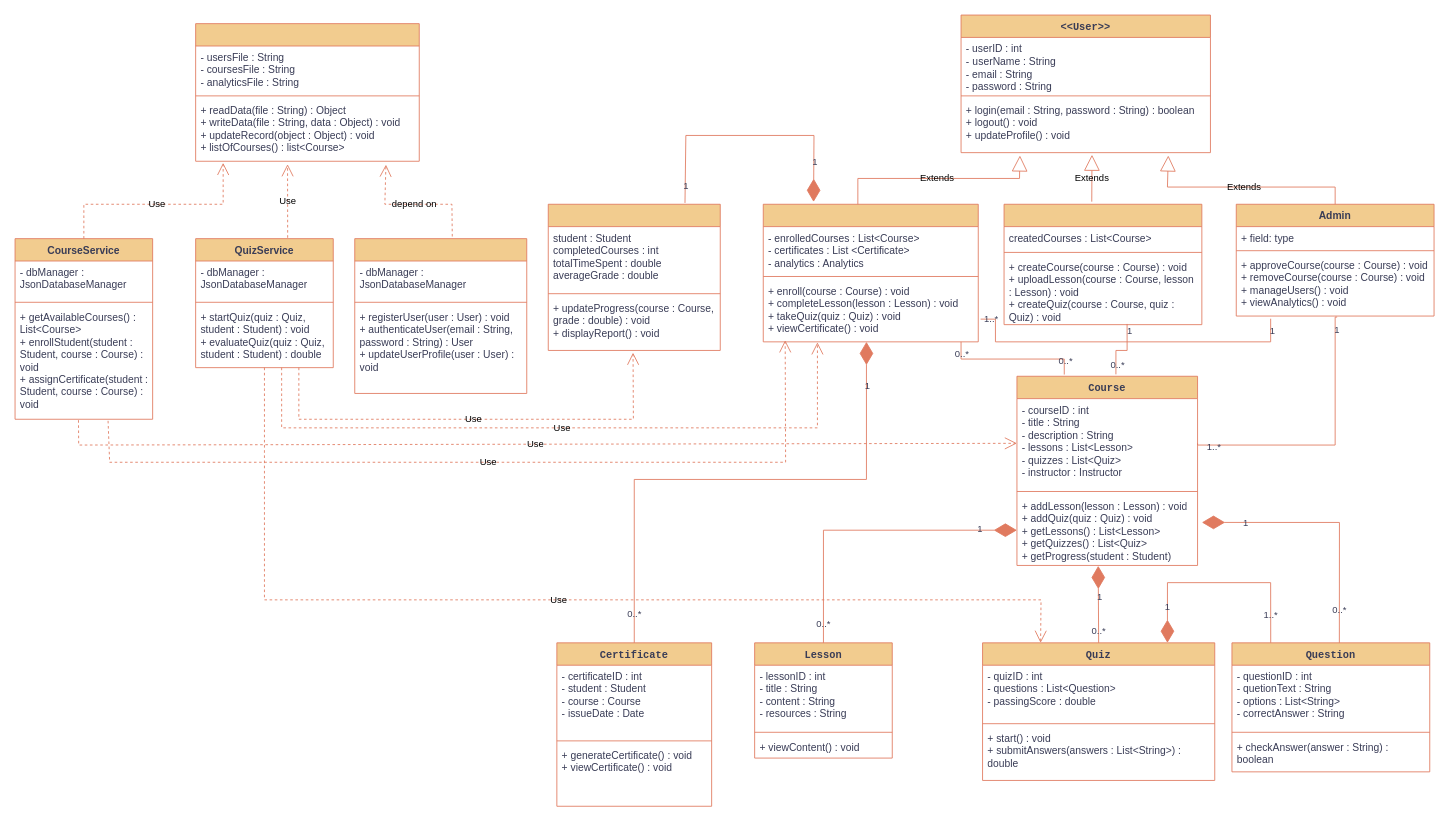
This 1449x824 diagram has some shape labels left out. The box of each missing label's shape, as (x1, y1, x2, y2) in pixels:
Analytics: (547, 203, 720, 350)
Instructure: (1003, 203, 1202, 325)
JsonDatabaseManager: (195, 23, 419, 161)
Student: (762, 203, 978, 342)
UserService: (354, 238, 527, 393)
